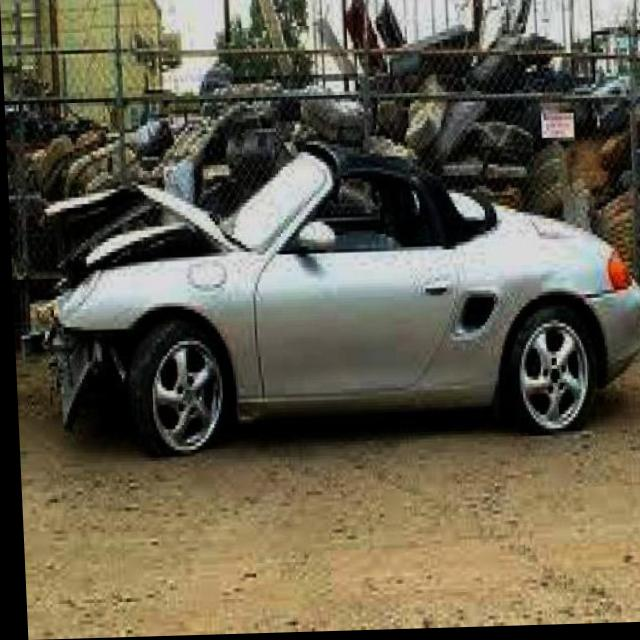Car-Damage: (37, 181, 246, 425)
